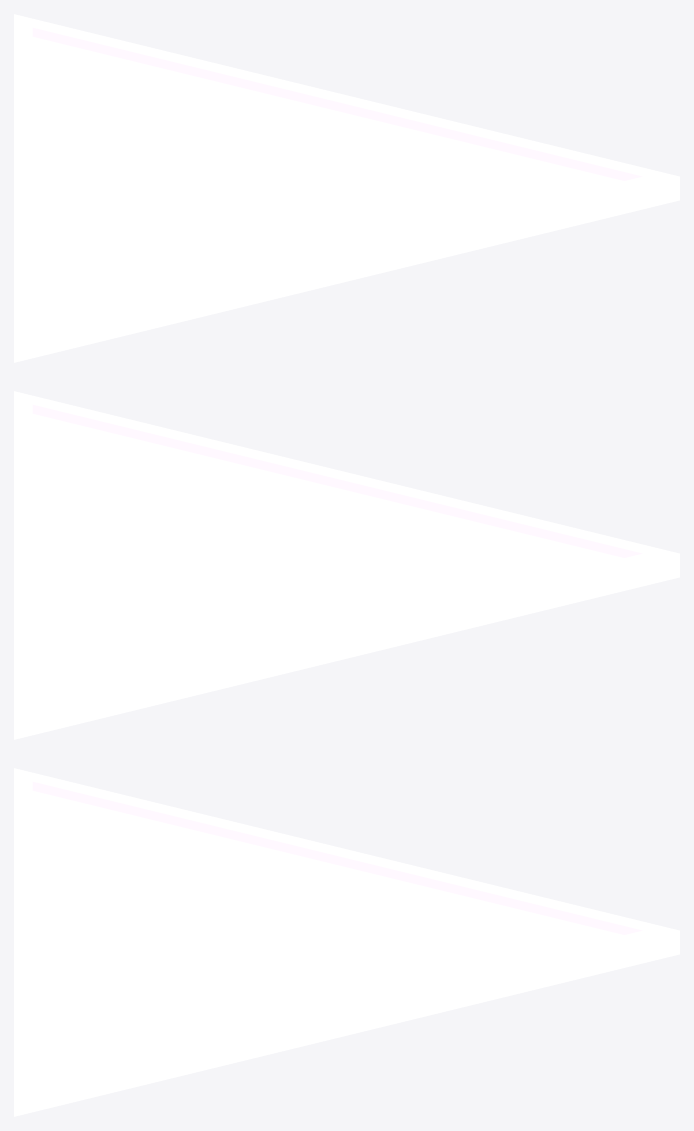
File: SFI0310027.fbx
The picture shows the model from 3 angles, top to bottom: view 1: azimuth 30°, elevation 25°; view 2: azimuth 150°, elevation 25°; view 3: azimuth 270°, elevation 25°; orthographic projection.
Parts seen in each view (by area): view 1: smSFI0310027; view 2: smSFI0310027; view 3: smSFI0310027.
Boxes of the visible parts, x1=… form: smSFI0310027: x1=14, y1=14, x2=679, y2=362; smSFI0310027: x1=14, y1=391, x2=679, y2=739; smSFI0310027: x1=14, y1=768, x2=679, y2=1116.
Size of the model in its own units: 173 by 5.93 by 150.
